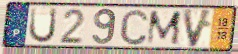2: (59, 7, 87, 45)
9: (91, 8, 117, 46)
C: (118, 8, 150, 47)
M: (145, 9, 183, 46)
U: (27, 7, 59, 45)
V: (181, 7, 215, 49)
